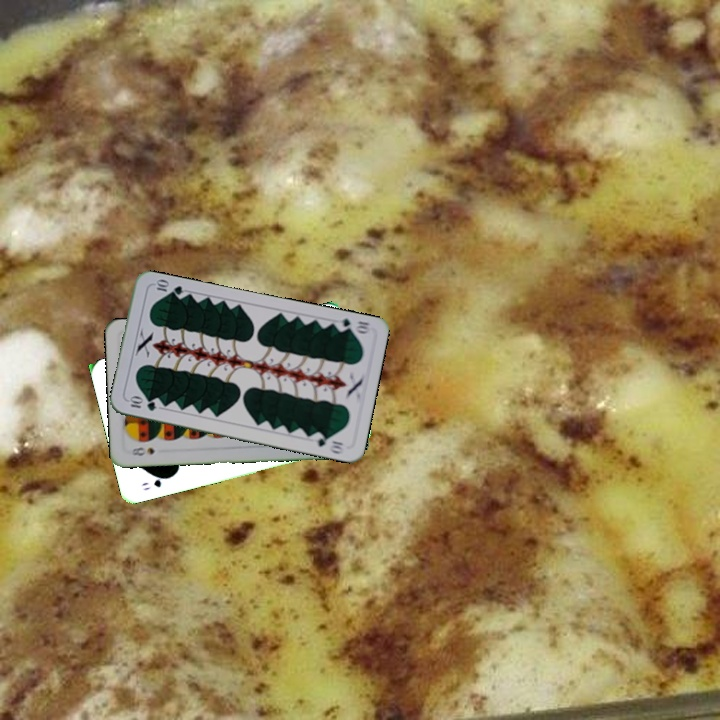G10: (332, 314, 373, 336), (124, 394, 159, 414)
GO: (137, 472, 173, 493)
S8: (128, 443, 157, 458)
